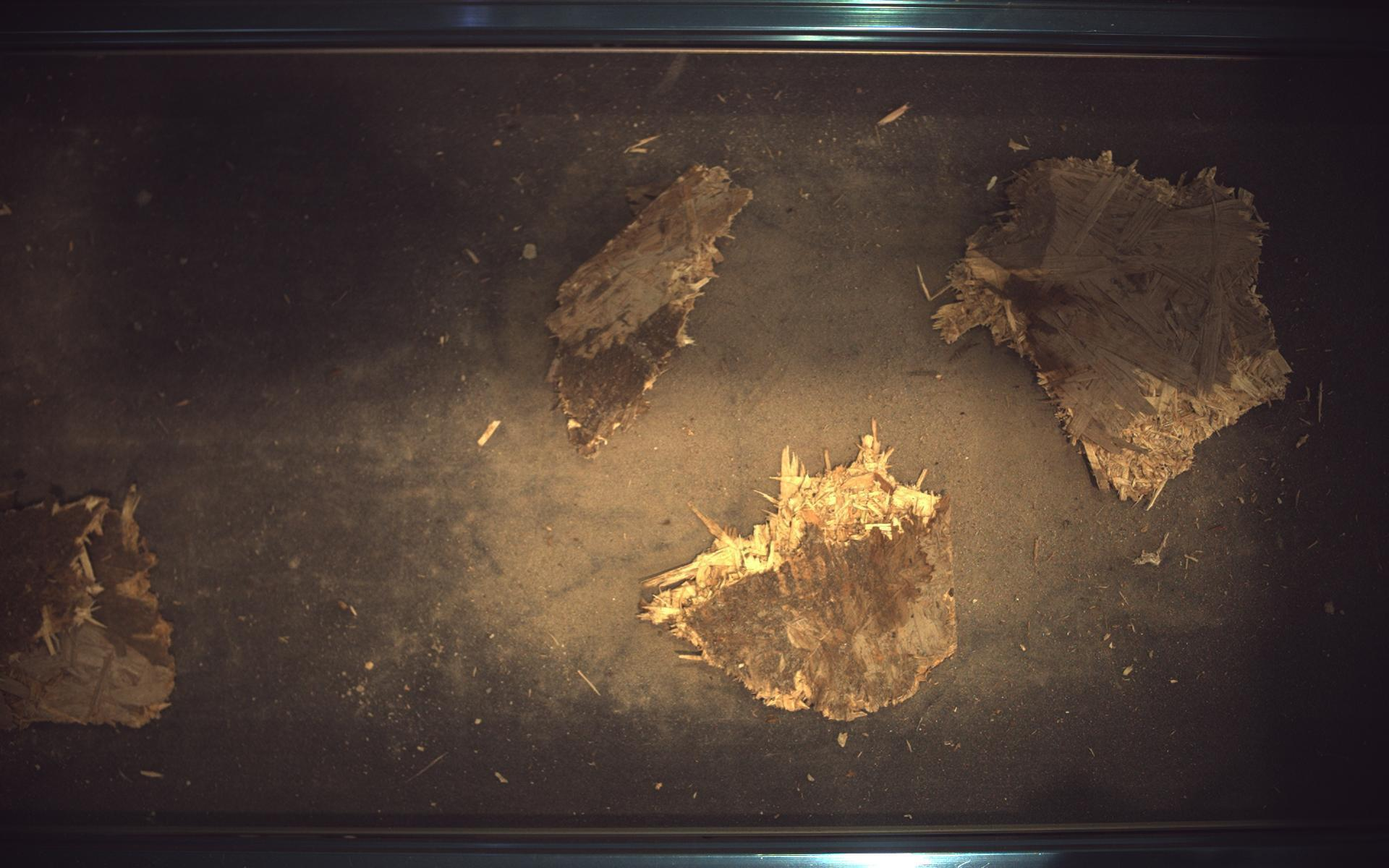wood: (935, 150, 1294, 502), (641, 423, 959, 721), (547, 166, 753, 456), (1, 485, 174, 731)
